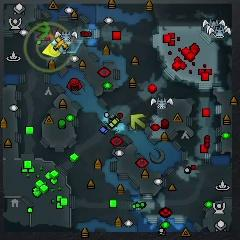Other: (52, 36, 71, 54)
p4: (41, 42, 61, 58)
x2: (130, 113, 146, 129)
x4: (34, 21, 51, 37)
x5: (49, 28, 60, 41)
